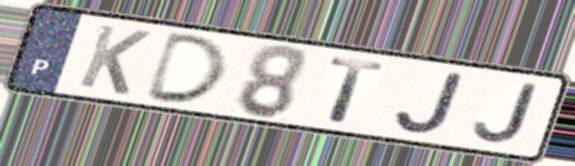8: (236, 42, 309, 121)
D: (140, 30, 232, 106)
J: (391, 69, 467, 136), (470, 81, 541, 146)
K: (74, 22, 154, 98)
T: (326, 55, 389, 126)
